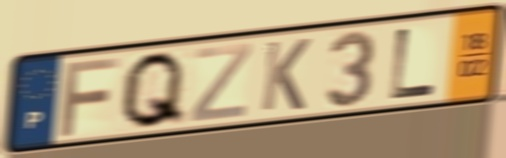3: (323, 26, 378, 111)
F: (57, 54, 124, 138)
K: (258, 36, 314, 114)
L: (387, 25, 440, 102)
Q: (117, 48, 189, 132)
Z: (187, 40, 255, 125)
